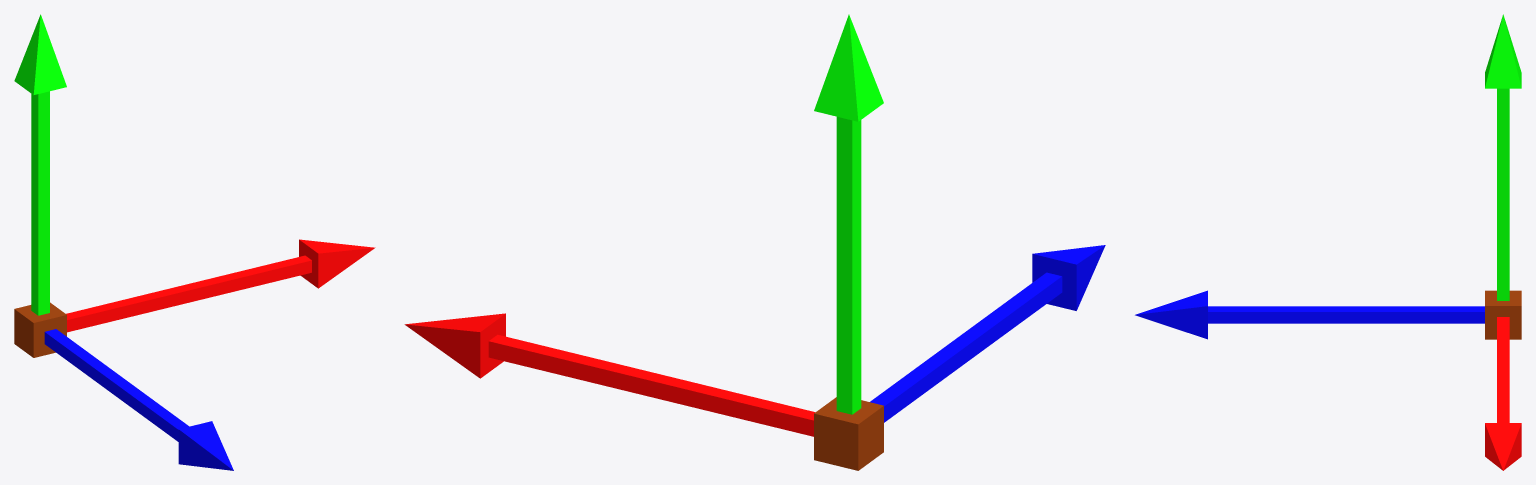
Rendered from Gizmo.FBX.
3 views of the same model, side by side, from view 1: azimuth 30°, elevation 25°; view 2: azimuth 150°, elevation 25°; view 3: azimuth 270°, elevation 25° (orthographic). The views are drawn at different scales.
Visible parts, largest first — view 1: ArrowX, ArrowY, ArrowZ, Center; view 2: ArrowX, ArrowY, ArrowZ, Center; view 3: ArrowZ, ArrowY, ArrowX, Center.
Part boxes in pixels (left/top/right/bottom): ArrowX: left=66, top=239, right=375, bottom=332; ArrowY: left=14, top=14, right=66, bottom=315; ArrowZ: left=44, top=329, right=233, bottom=470; Center: left=14, top=302, right=66, bottom=357; ArrowX: left=404, top=313, right=815, bottom=436; ArrowY: left=814, top=14, right=883, bottom=414; ArrowZ: left=870, top=245, right=1105, bottom=422; Center: left=814, top=397, right=883, bottom=470; ArrowZ: left=1135, top=290, right=1484, bottom=339; ArrowY: left=1485, top=14, right=1521, bottom=300; ArrowX: left=1485, top=317, right=1521, bottom=470; Center: left=1485, top=290, right=1521, bottom=339.
Size of the model in its own units: 210 by 190 by 210.
